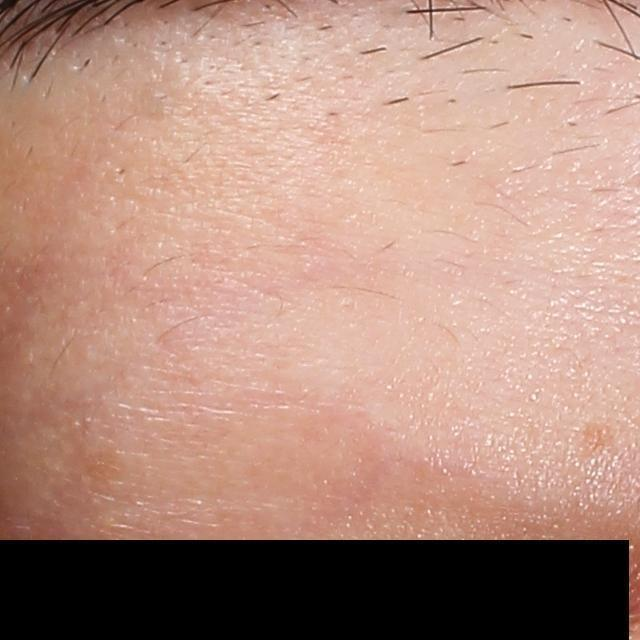melasma: (584, 420, 623, 463)
